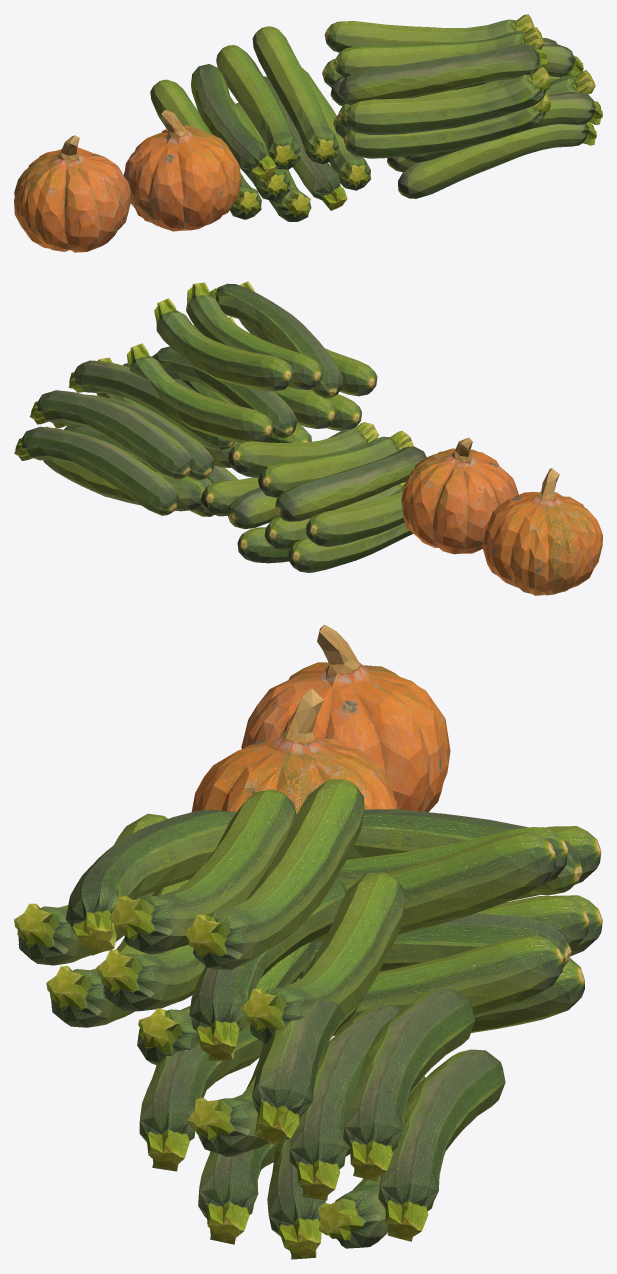
Rendered from P_NEWMaket01_after21.obj.
3 renders of one model, top to bottom at view 1: azimuth 30°, elevation 25°; view 2: azimuth 150°, elevation 25°; view 3: azimuth 270°, elevation 25°, orthographic. The views are drawn at different scales.
Bounding box in the file's own units: 1.6 × 0.4929 × 0.8157.
4 materials, 4 textured.
